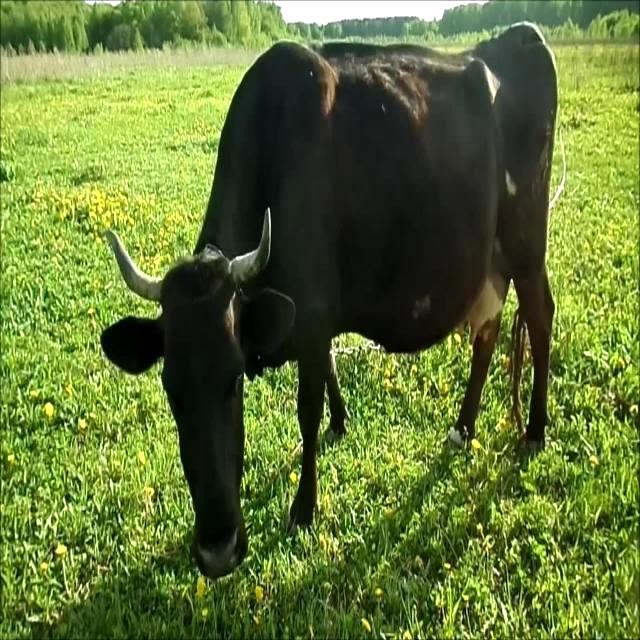COW: (101, 25, 556, 577)
